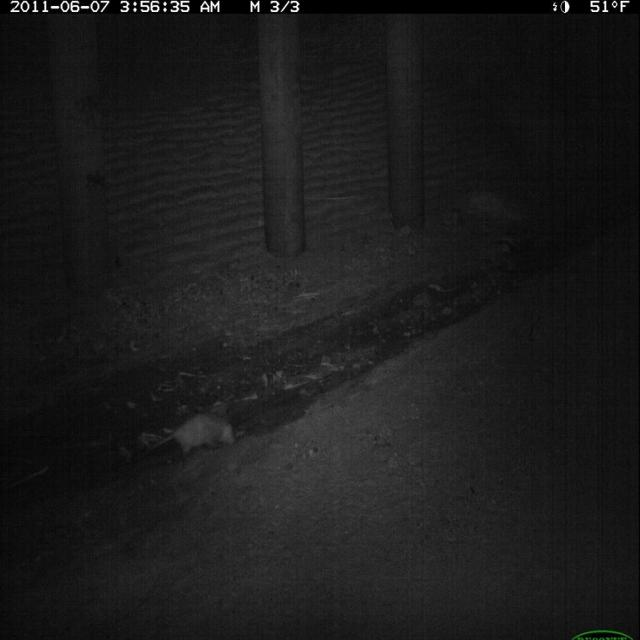opossum: (148, 409, 241, 464)
